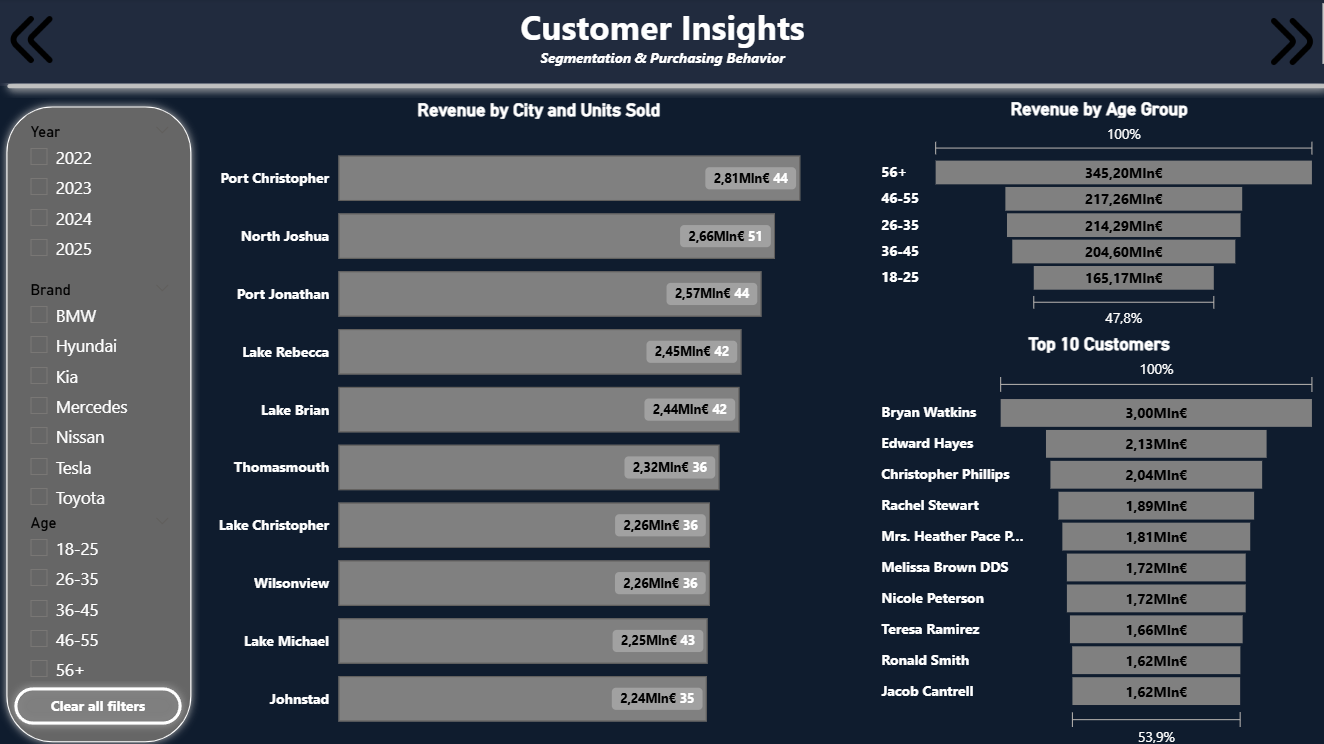

The page's visual inventory and layout, read from the dashboard file:
{"tool":"powerbi","page":{"name":"Customer Insights","canvas":[1280,720],"ordinal":3},"visuals":[{"type":"shape","box":[0,0,1280,84.2],"z":0},{"type":"shape","box":[0,72.5,1280,23.2],"z":1000},{"type":"textbox","box":[0,0,1280,84.1],"z":2000},{"type":"funnel","title":"Revenue by Age Group","fields":{"Category":["customers_clean.Fascia Age"],"Y":["MISURE.Fatturato"]},"box":[840,96,427,224.3],"z":3000},{"type":"barChart","title":"Revenue by City and Units Sold","fields":{"Category":["customers_clean.Gerarchia Geografica.Continent","customers_clean.Gerarchia Geografica.Country","customers_clean.Gerarchia Geografica.City"],"Y":["MISURE.Fatturato"]},"box":[204.3,96.3,625.4,623.5],"z":4000},{"type":"funnel","title":"Top 10 Customers","fields":{"Y":["MISURE.Fatturato"],"Category":["customers_clean.Name"]},"box":[840,320.3,427,400.1],"z":5000},{"type":"shape","box":[0,96,193,624.4],"z":6000},{"type":"slicer","fields":{"Values":["CALENDARIO.Date.Variazione.Gerarchia data.Anno"]},"box":[18.2,114.8,157.8,151.2],"z":7000},{"type":"slicer","fields":{"Values":["customers_clean.Fascia Age"]},"box":[18.2,488.8,157.8,177.9],"z":8000},{"type":"slicer","fields":{"Values":["cars_clean.Brand"]},"box":[18.2,265.9,157.8,254.5],"z":9000},{"type":"actionButton","box":[7.7,651.5,176,51.7],"z":10000},{"type":"image","box":[0,17.3,63.6,45.3],"z":11000},{"type":"image","box":[1207.8,19.4,63.6,45.3],"z":12000}]}

Visuals, with their boxes in screenshot pixels (x1, y1, x2, y2), scaled from the page's 1280x720 canvas onto the 1324x744 screenshot:
shape: <region>0, 0, 1323, 87</region>
shape: <region>0, 75, 1323, 99</region>
textbox: <region>0, 0, 1323, 87</region>
"Revenue by Age Group" funnel: <region>869, 99, 1311, 331</region>
"Revenue by City and Units Sold" barChart: <region>211, 100, 858, 743</region>
"Top 10 Customers" funnel: <region>869, 331, 1311, 743</region>
shape: <region>0, 99, 200, 743</region>
slicer - CALENDARIO.Date.Variazione.Gerarchia data.Anno: <region>19, 119, 182, 275</region>
slicer - customers_clean.Fascia Age: <region>19, 505, 182, 689</region>
slicer - cars_clean.Brand: <region>19, 275, 182, 538</region>
actionButton: <region>8, 673, 190, 727</region>
image: <region>0, 18, 66, 65</region>
image: <region>1249, 20, 1315, 67</region>
